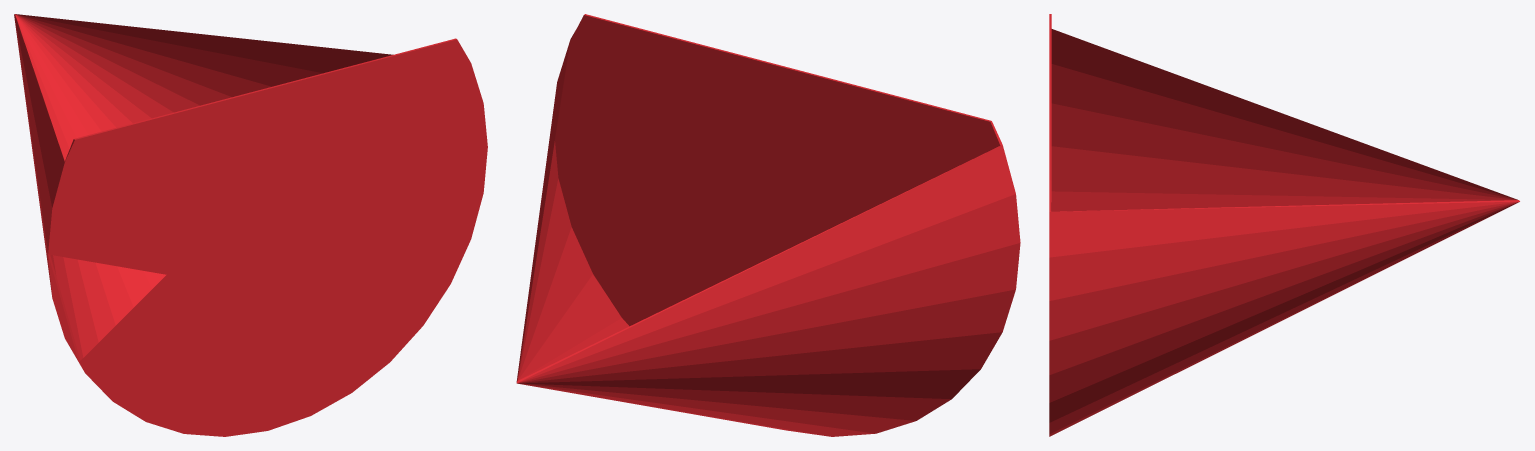
Rendered from weirdCone.fbx.
The picture shows the model from 3 angles, left to right: view 1: azimuth 30°, elevation 25°; view 2: azimuth 150°, elevation 25°; view 3: azimuth 270°, elevation 25°; orthographic projection. The views are drawn at different scales.
Parts seen in each view (by area): view 1: Cone; view 2: Cone; view 3: Cone.
Boxes of the visible parts, x1,y1,x2,y2 form: Cone: [14, 14, 487, 436]; Cone: [516, 14, 1020, 436]; Cone: [1049, 14, 1519, 436].
Size of the model in its own units: 200 by 150 by 200.
